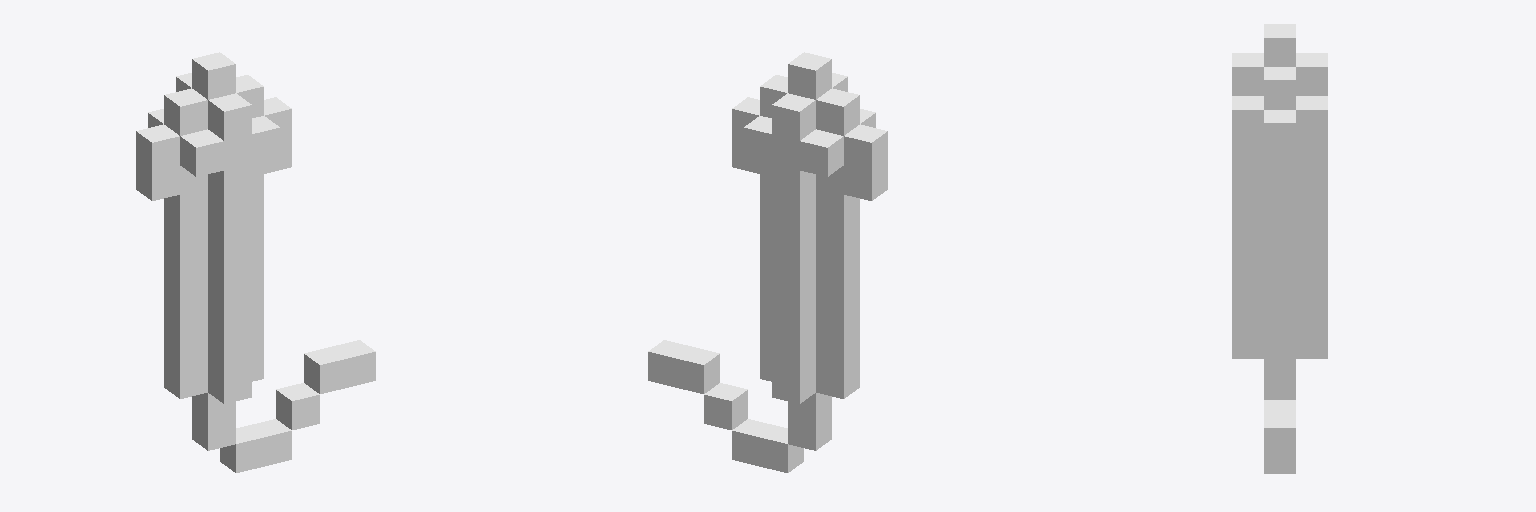
The model's file is hanabi.obj.
3 views of the same model, side by side, from view 1: azimuth 30°, elevation 25°; view 2: azimuth 150°, elevation 25°; view 3: azimuth 270°, elevation 25° (orthographic).
Visible parts, largest first — view 1: object 1; view 2: object 1; view 3: object 1.
Boxes of the visible parts, box(x1,y1,x2,y2) form: object 1: box(136, 52, 375, 472); object 1: box(648, 52, 887, 472); object 1: box(1232, 24, 1327, 473).
Size of the model in its own units: 0.8 by 1.4 by 0.3.